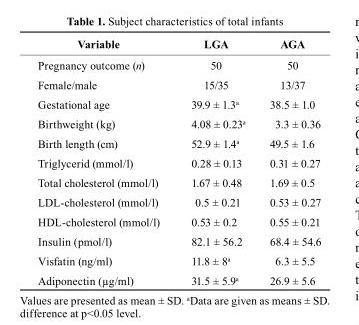table: (37, 37, 320, 286)
table column: (37, 37, 174, 286), (174, 37, 256, 286), (256, 37, 320, 286)
table column header: (37, 37, 320, 54)
table row: (37, 54, 320, 74), (37, 74, 320, 94), (37, 113, 320, 133), (37, 152, 320, 172), (37, 191, 320, 211), (37, 211, 320, 231), (37, 250, 320, 270), (37, 94, 320, 113), (37, 133, 320, 152), (37, 172, 320, 191), (37, 231, 320, 250), (37, 37, 320, 54), (37, 270, 320, 286)
